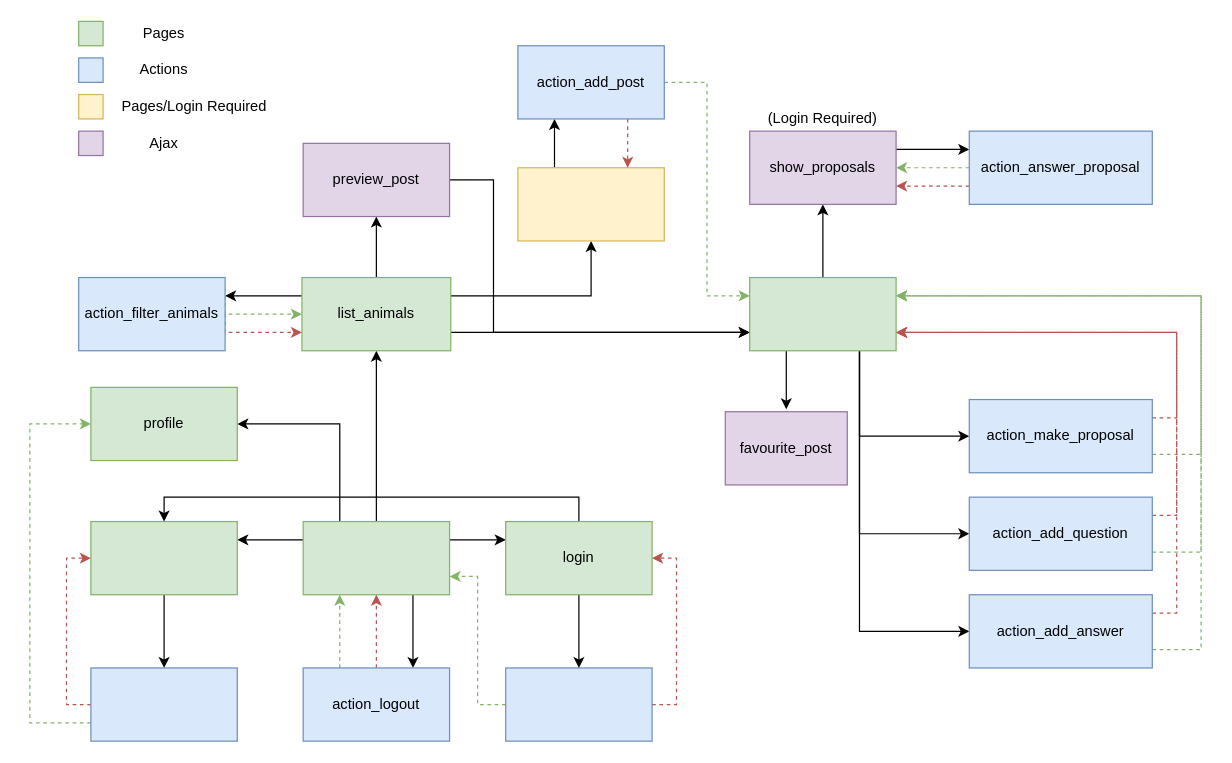
Image size: 1232x763. Some labels were removed from this diagram. Each missing label, with the centre of its shape:
"action_login" goes at point (578, 704).
"action_signup" goes at point (163, 704).
"add_post_page" goes at point (590, 204).
"animal_post" goes at point (822, 313).
"home_page" goes at point (376, 557).
"signup" goes at point (163, 557).
